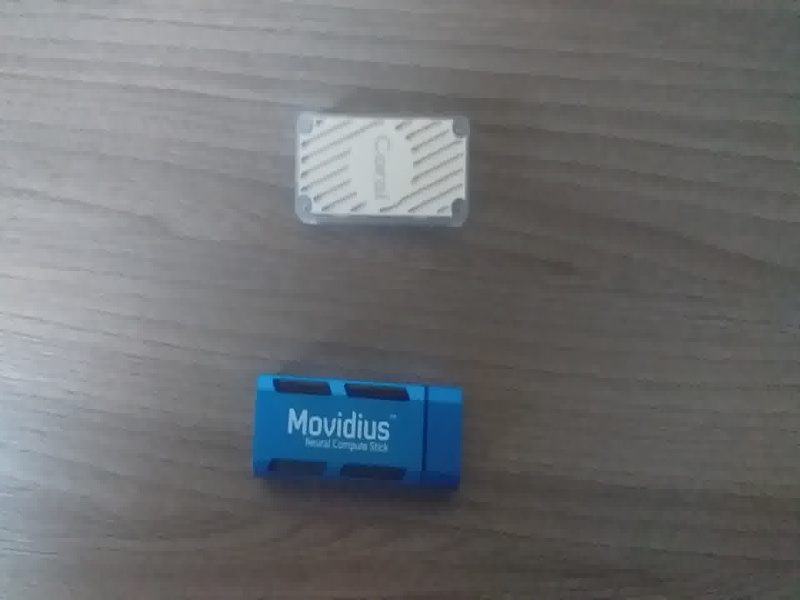coral: (291, 106, 473, 232)
movidius: (249, 364, 481, 496)
